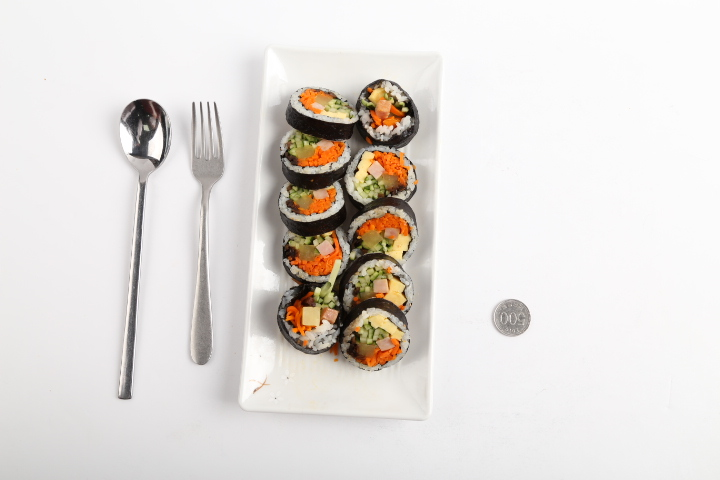dish: (238, 46, 441, 421)
ref_coin: (493, 299, 531, 337)
ref_fork: (191, 101, 225, 191)
ref_spoon: (119, 98, 172, 184)
김밥: (277, 78, 420, 371)
